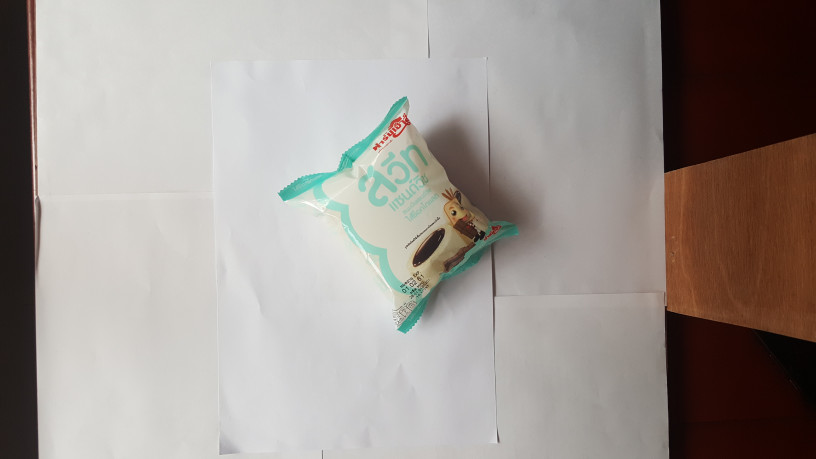farmhouse-sweetsandwich-chocolate: (273, 92, 521, 338)
